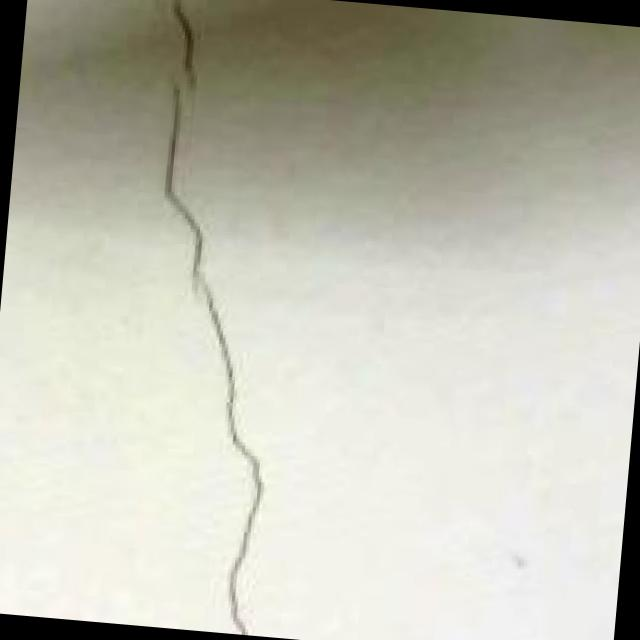crack: (62, 0, 341, 635)
